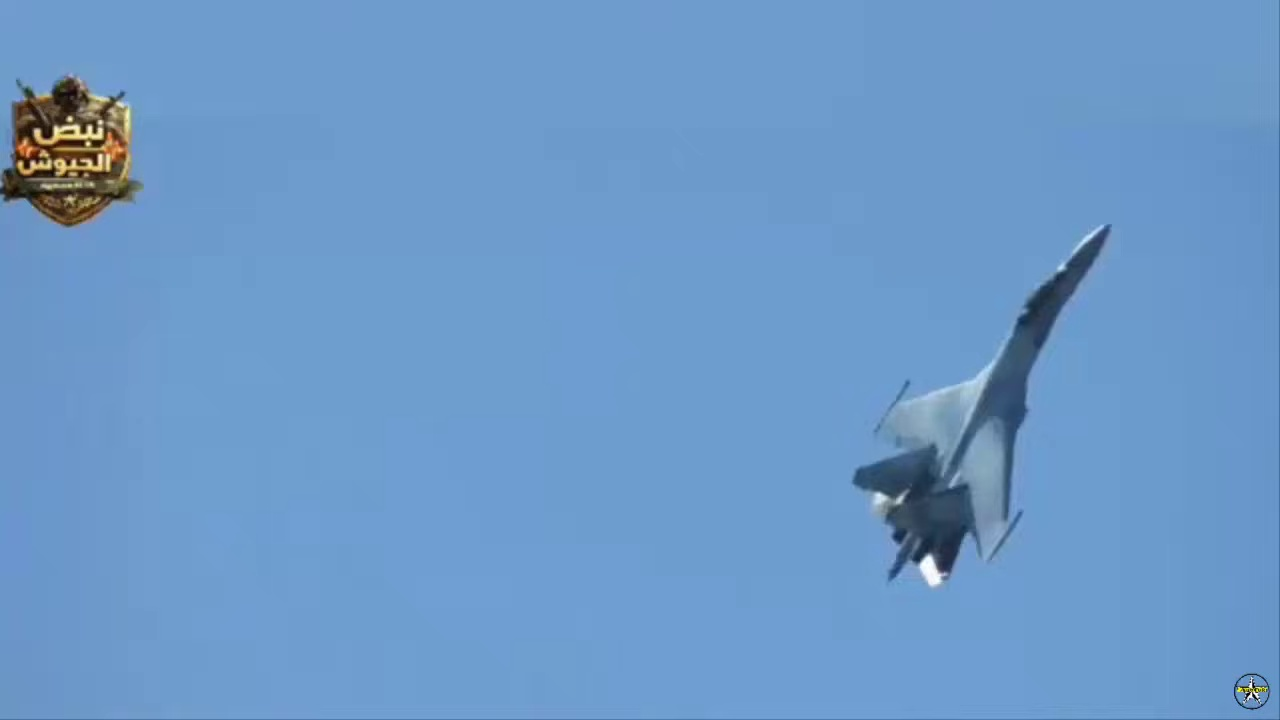Su35: (850, 224, 1113, 586)
